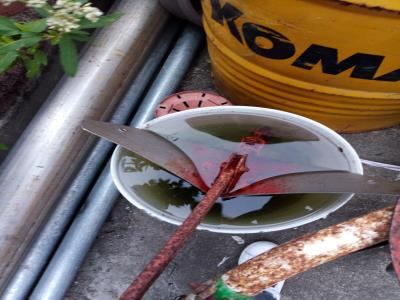bucket: (107, 104, 363, 237), (198, 1, 400, 135)
